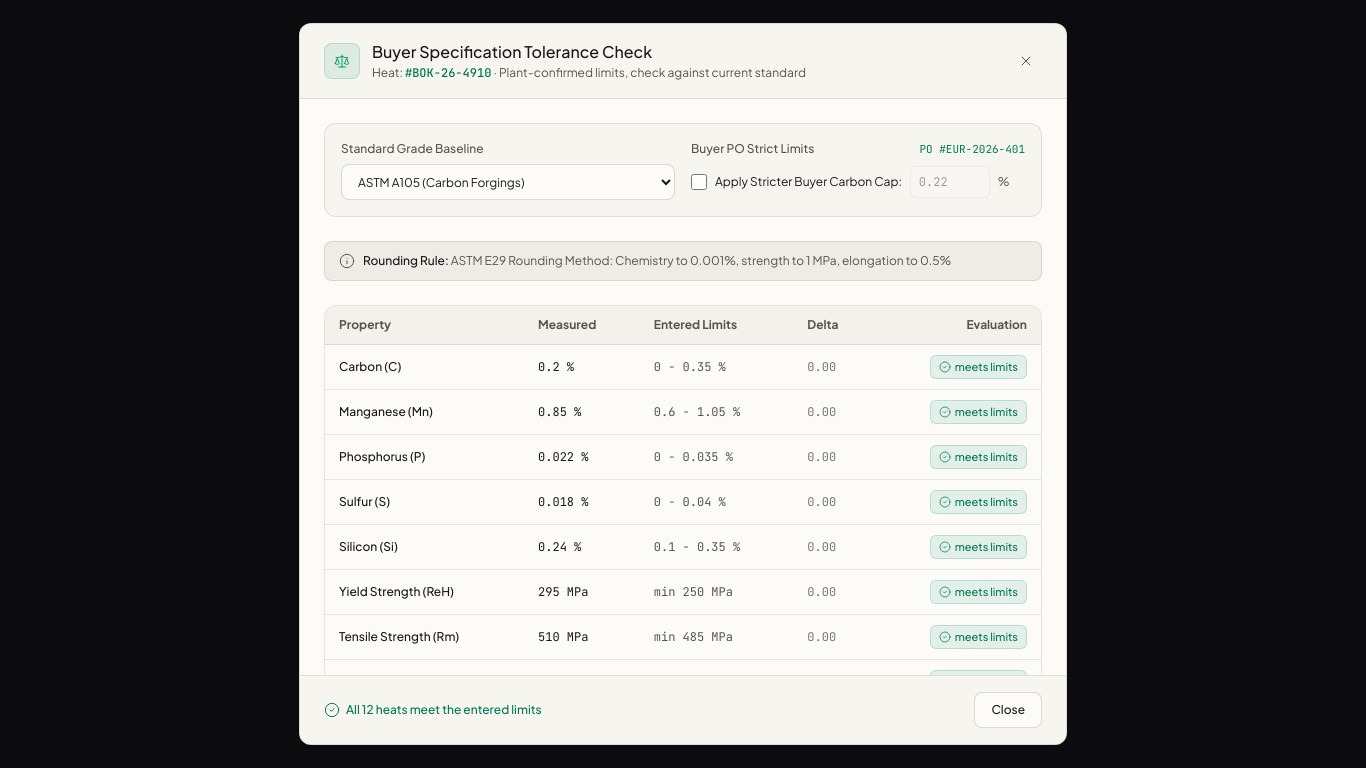
Prompt Pack v4 Task C1: BuyerSpecCheckModal › flags failure when buyer custom PO imposes stricter carbon cap below measured value
// Toggle custom buyer PO limits
Click the checkbox labelled "Buyer PO Strict Limits". click: [699, 182]
box: top-left (691, 174), bottom-right (707, 190)
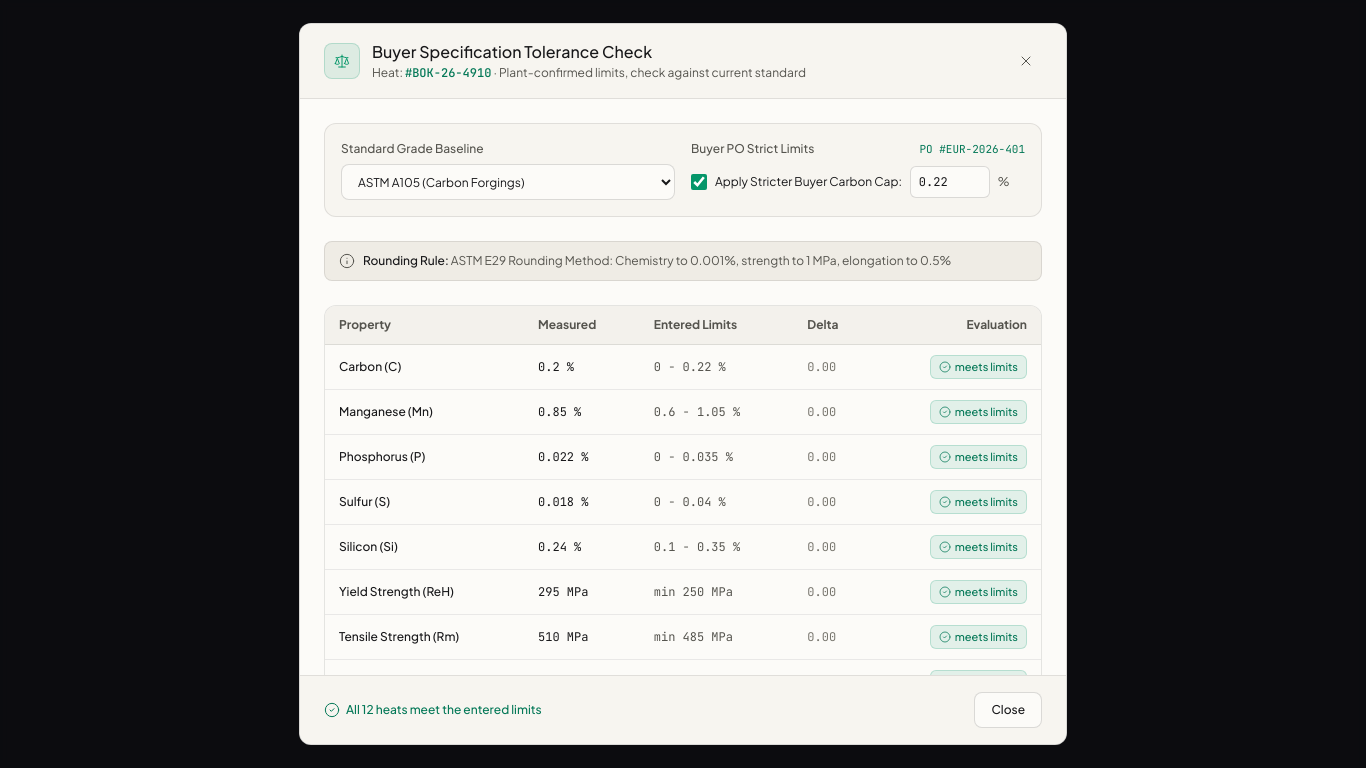
// Change input to 0.15 (below Bokaro's 0.20%)
Replace the text in the number field named "buyer carbon limit" with "0.15". click: [950, 182]
box: top-left (910, 166), bottom-right (990, 198)
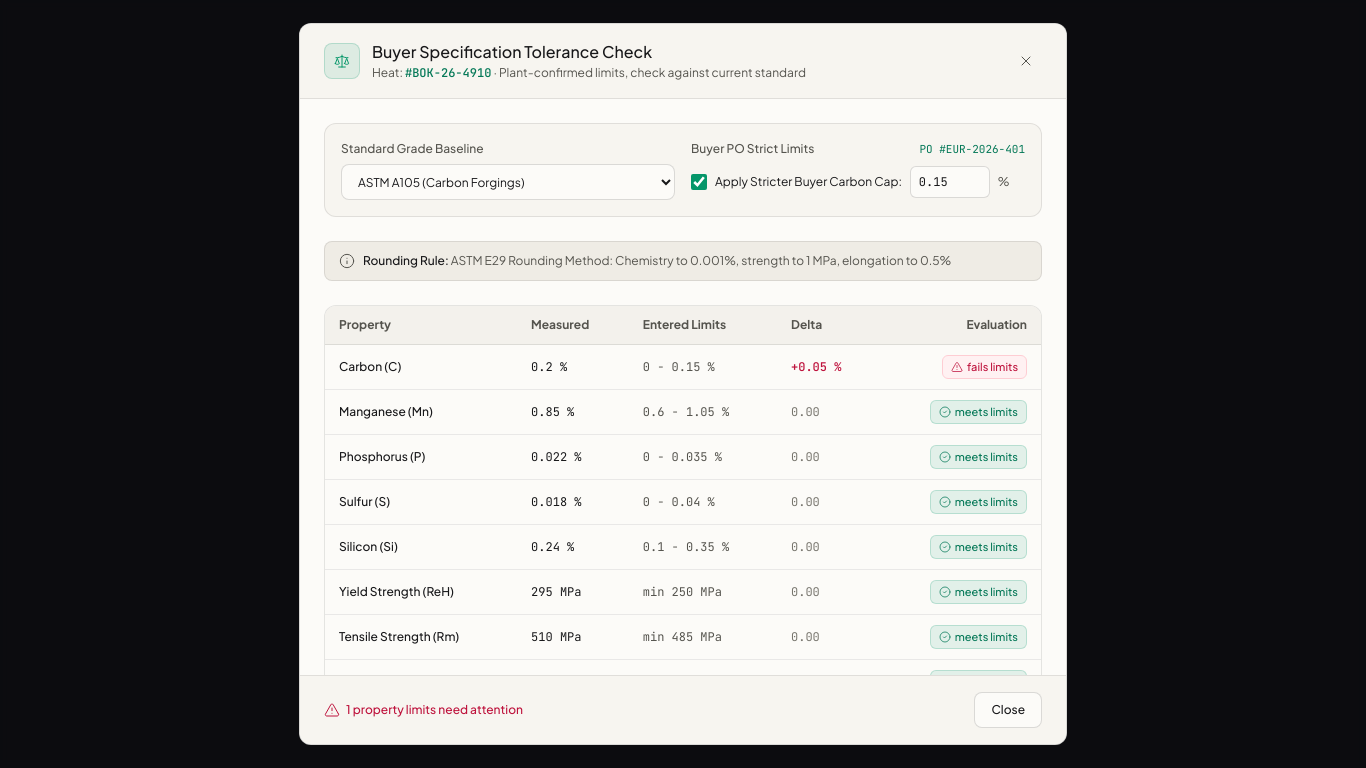
Expected: the text "fails limits" is shown, top-left (942, 355), bottom-right (1027, 379)
Expected: the text "1 property limits need attention" is shown, top-left (324, 701), bottom-right (523, 719)
